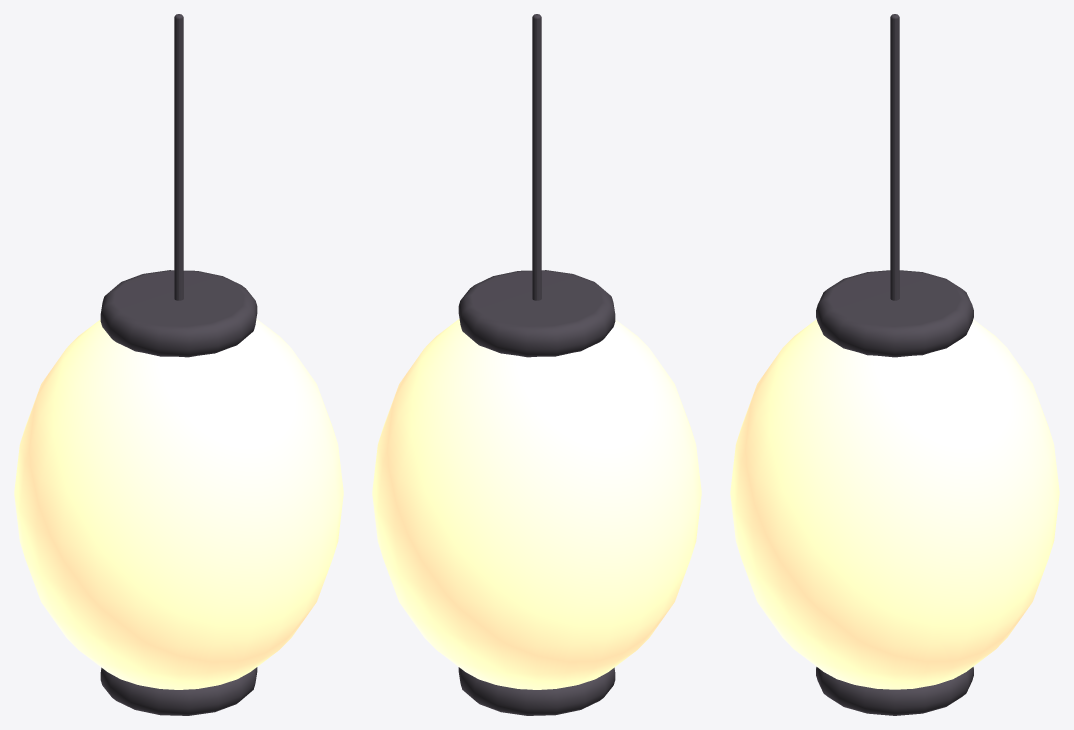
The model's file is lantern.glb.
3 renders of one model, left to right at view 1: azimuth 30°, elevation 25°; view 2: azimuth 150°, elevation 25°; view 3: azimuth 270°, elevation 25°, orthographic.
Visible parts, largest first — view 1: paper, cap0.3, cap-0.3, string; view 2: paper, cap0.3, cap-0.3, string; view 3: paper, cap0.3, cap-0.3, string.
Part boxes in pixels (left/top/right/bottom): paper: left=14, top=319, right=343, bottom=689; cap0.3: left=100, top=270, right=257, bottom=357; cap-0.3: left=100, top=667, right=257, bottom=715; string: left=174, top=14, right=183, bottom=300; paper: left=372, top=319, right=701, bottom=689; cap0.3: left=458, top=270, right=615, bottom=357; cap-0.3: left=458, top=667, right=615, bottom=715; string: left=532, top=14, right=541, bottom=300; paper: left=730, top=319, right=1059, bottom=689; cap0.3: left=816, top=270, right=973, bottom=357; cap-0.3: left=816, top=667, right=973, bottom=715; string: left=890, top=14, right=899, bottom=300.
Size of the model in its own units: 0.5 by 1.13 by 0.5.
